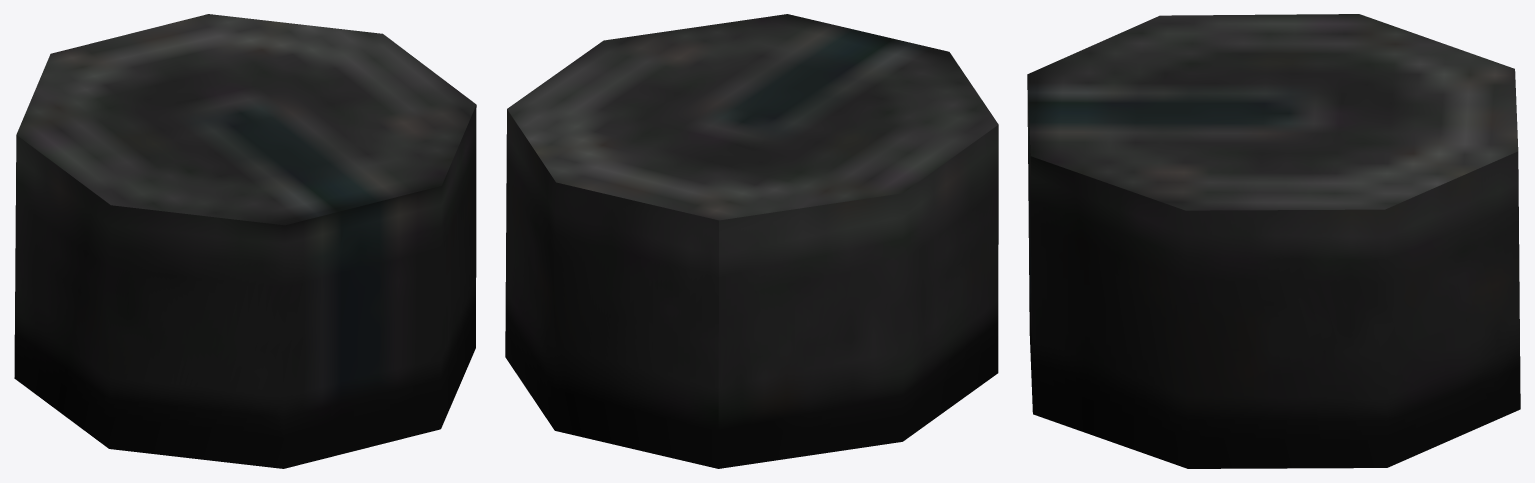
The model's file is communication_table_slider_pplant.dae.
3 views of the same model, side by side, from view 1: azimuth 30°, elevation 25°; view 2: azimuth 150°, elevation 25°; view 3: azimuth 270°, elevation 25° (orthographic). The views are drawn at different scales.
Parts seen in each view (by area): view 1: button; view 2: button; view 3: button.
Part boxes in pixels (<box>): button: <box>14,14,476,468</box>; button: <box>505,14,998,468</box>; button: <box>1027,14,1520,468</box>.
Bounding box in the file's own units: 0.0566 × 0.0353 × 0.0602.
